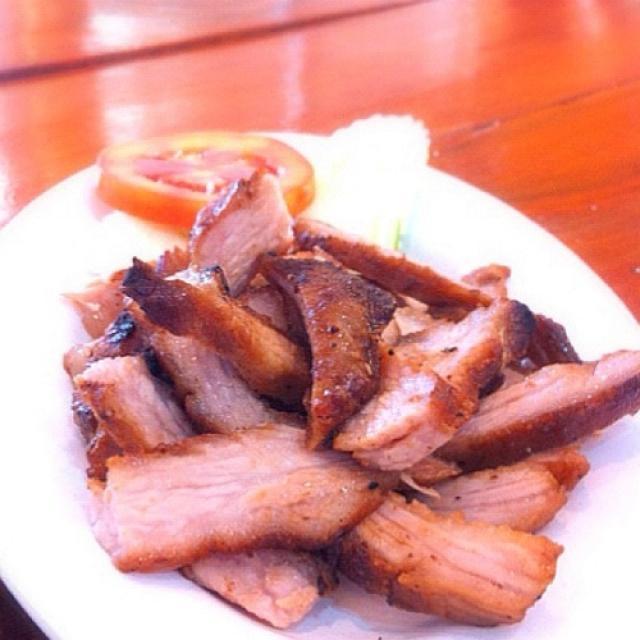猪肉菜式: (59, 124, 626, 621)
